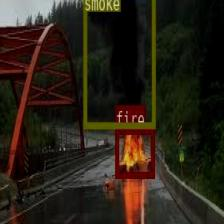fire: (114, 127, 154, 177)
smoke: (83, 0, 154, 128)
